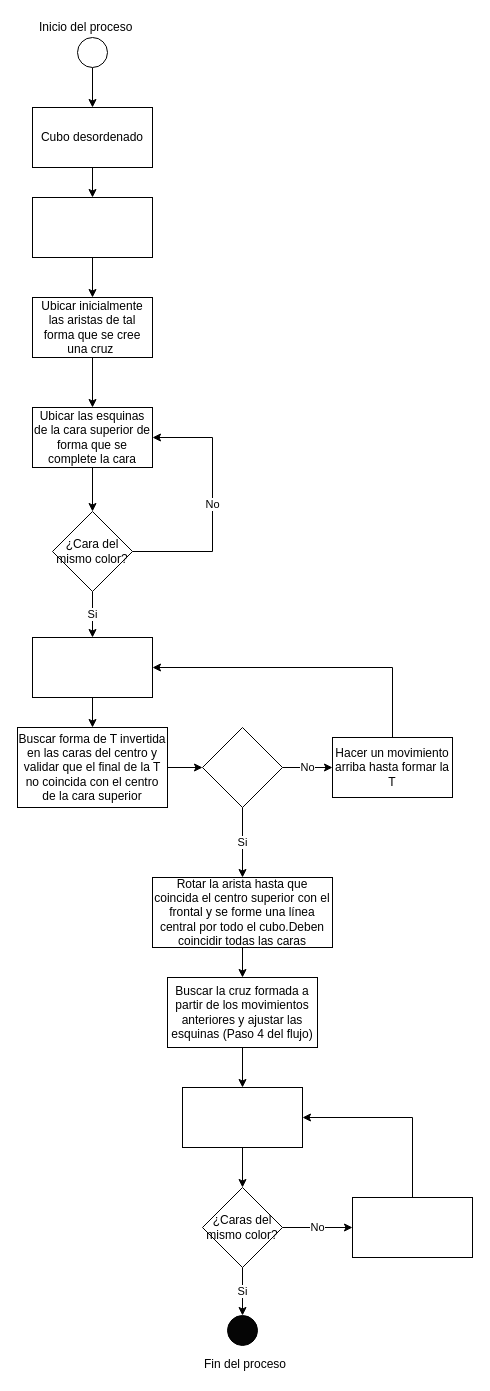
The diagram is 490 pixels wide and 1391 high, and some of its shapes have lost their labels. Each missing label, with the centre of its shape:
Ajustar las esquinas del cubo (Paso 4 flujo): the point at 242,1117
Ajustar piezas invertidas: the point at 412,1227
Seleccionar cara que se armará primero y ubicarla en la parte superior del cubo: the point at 92,227
Ubicar la cara armada en la parte inferior del cubo: the point at 92,667
¿Centros con forma de T?: the point at 242,767
